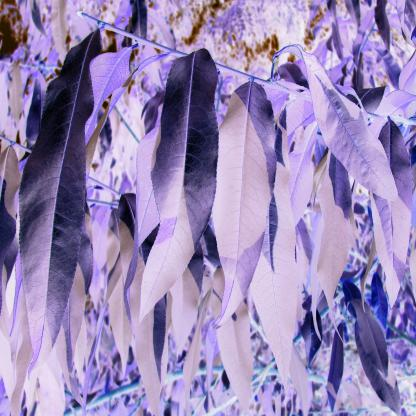Peach leaf: (21, 25, 103, 388), (139, 46, 219, 326), (211, 79, 277, 335), (250, 169, 298, 392), (313, 148, 352, 340), (373, 122, 411, 307)
